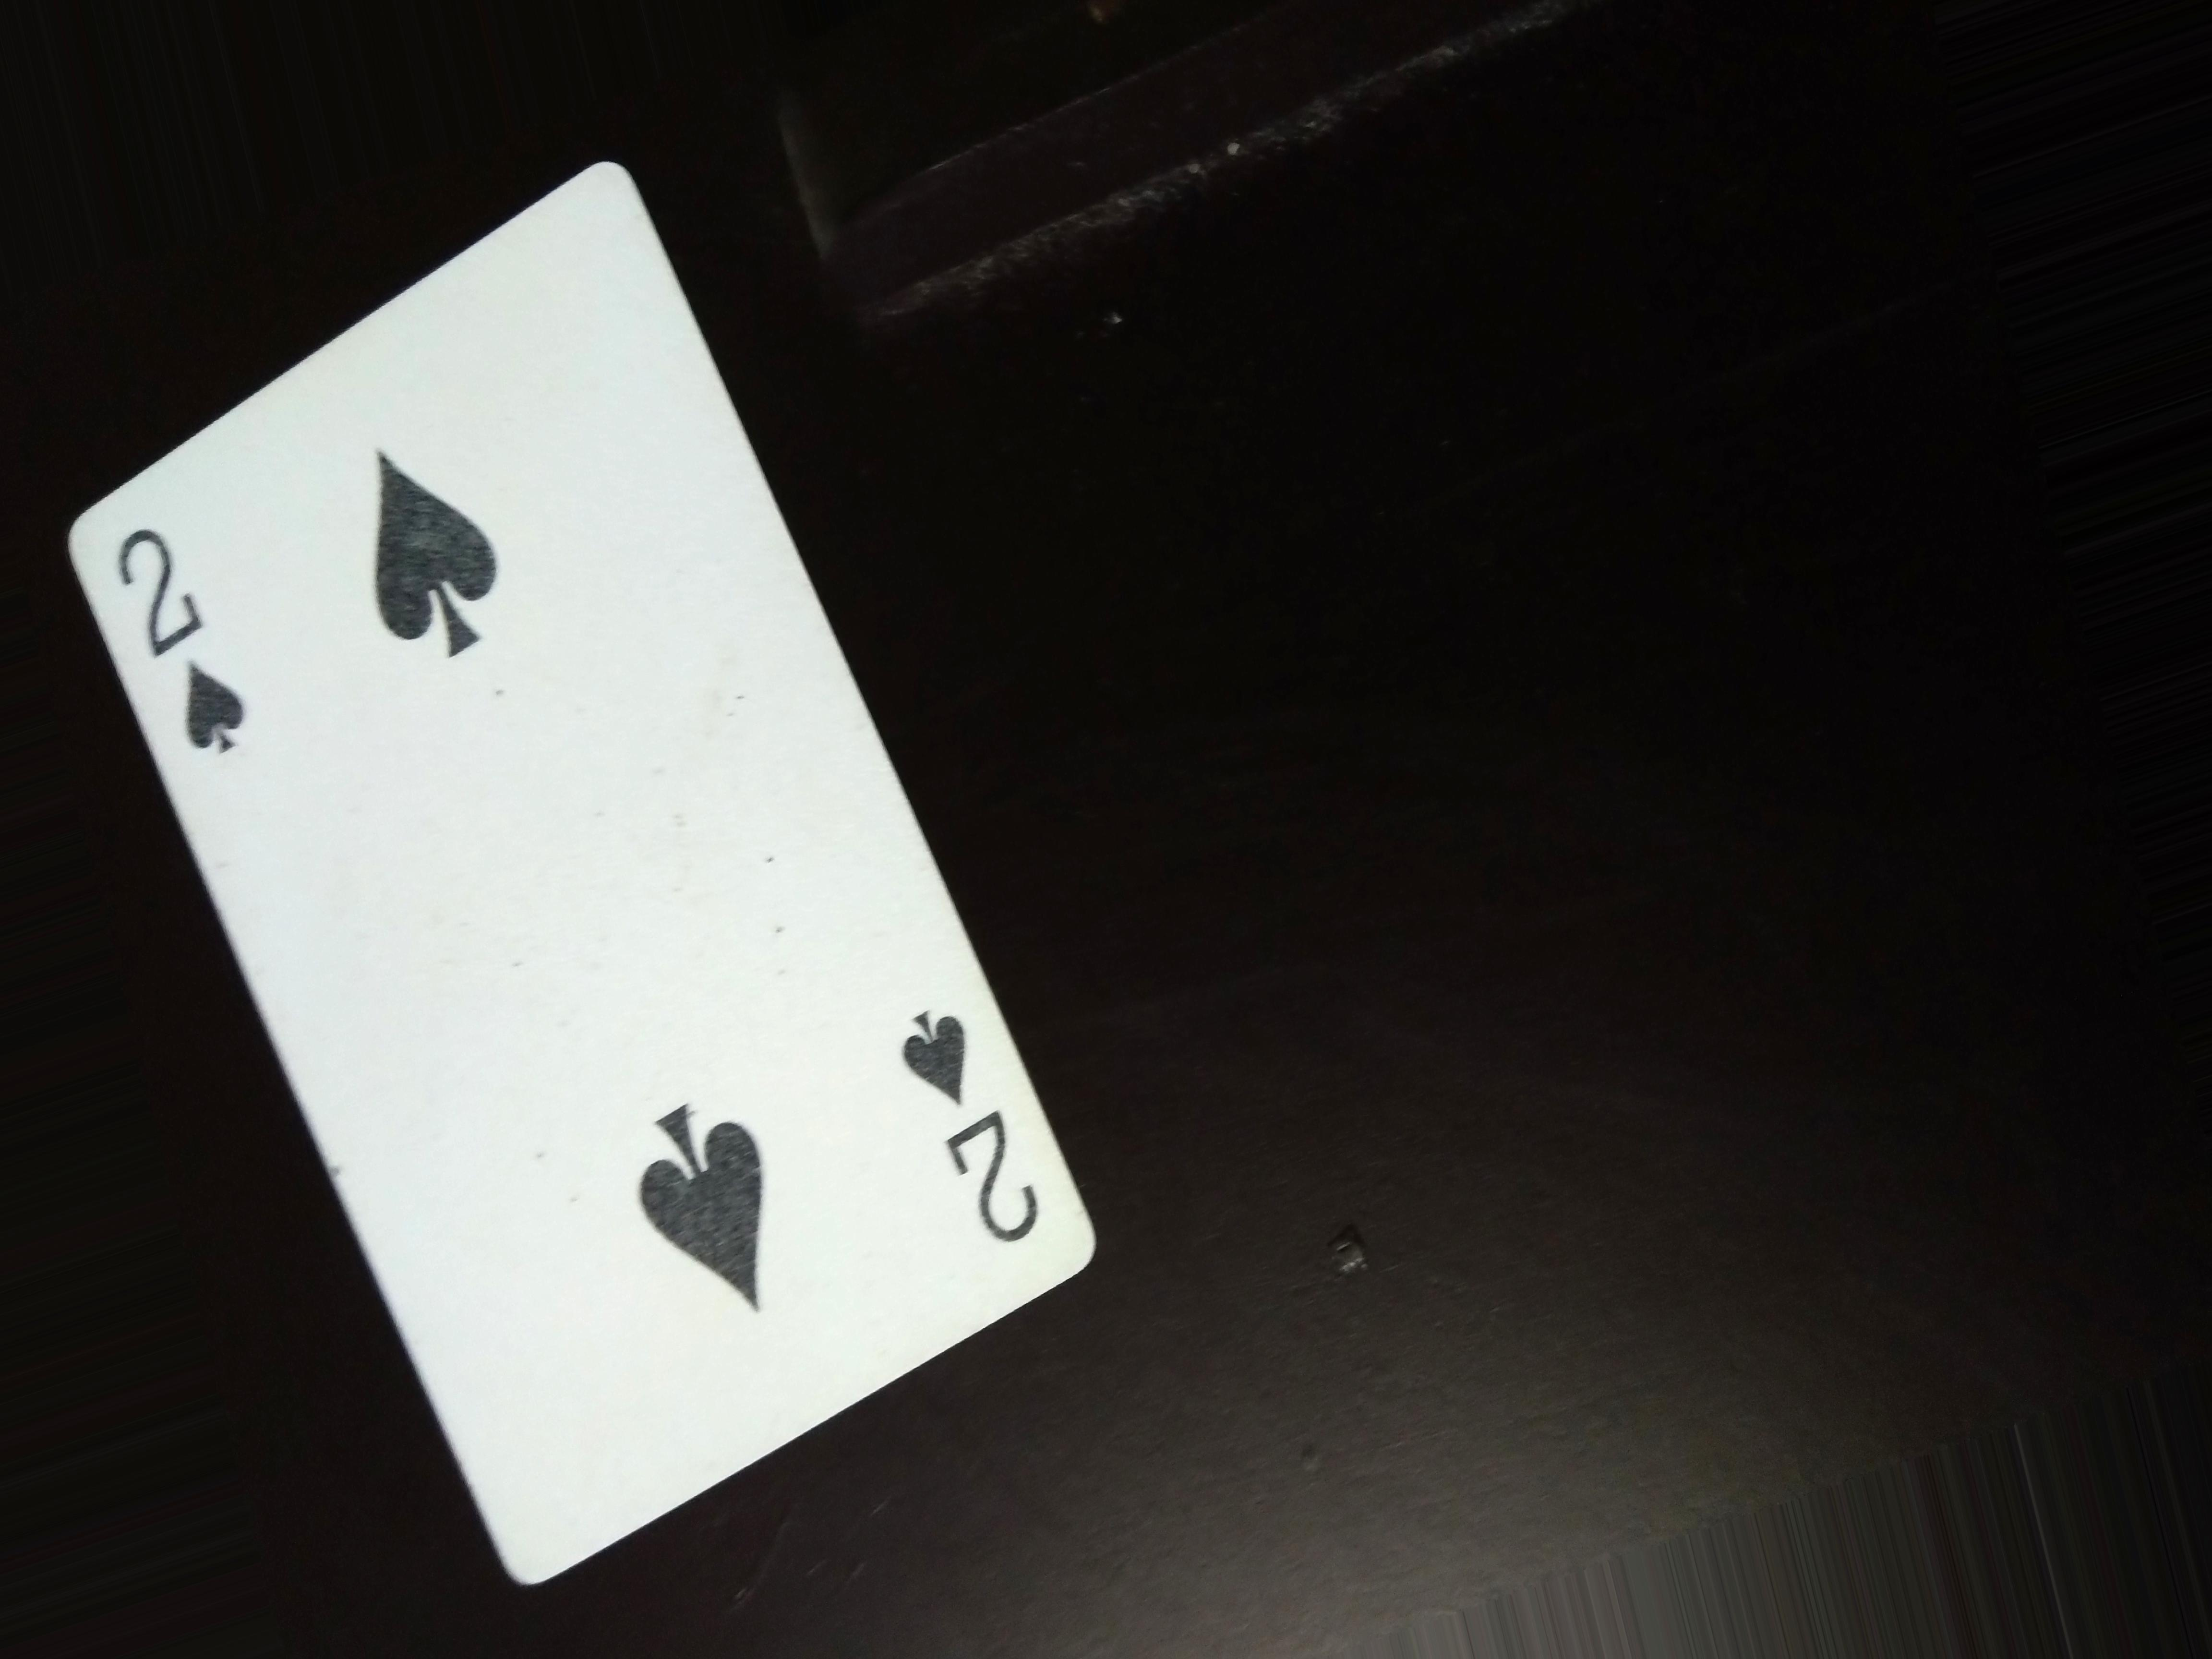2S: (885, 999, 1052, 1276)
